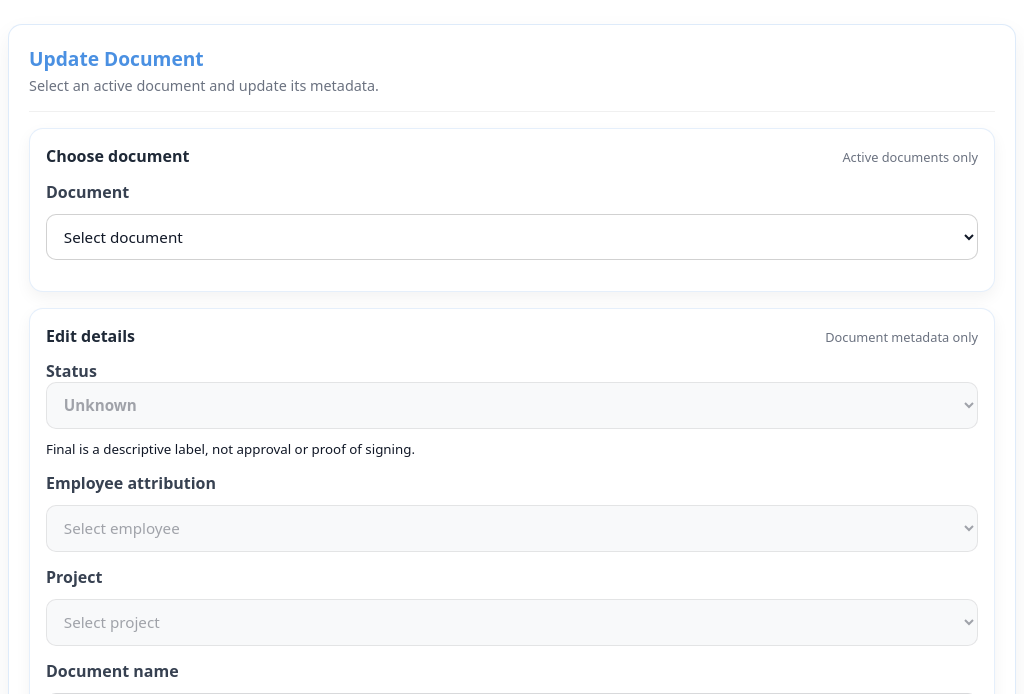
it: linked record current=true cannot move; historical metadata cannot save
The image size is (1024, 694).
Step 1. Select "Linked.pdf - Project (id: 7)" in the dropdown below "Choose document" → (512, 237), box [46,214,978,260]
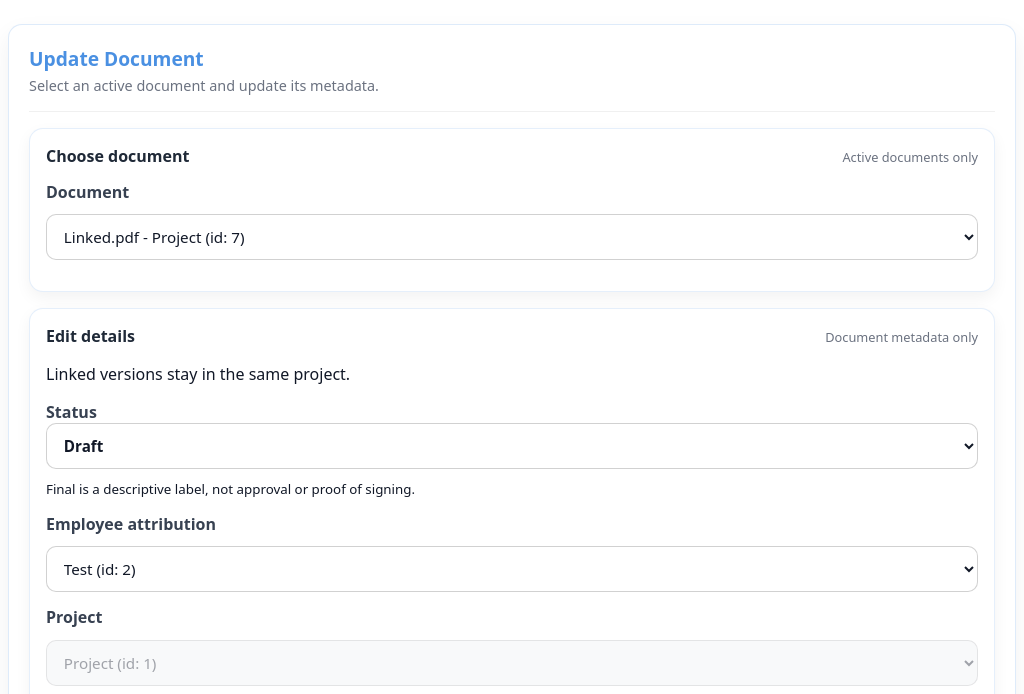
Check: the 4th dropdown is disabled, box [46,640,978,686]
Check: the dropdown labelled "Status" is enabled, box [46,422,978,469]
